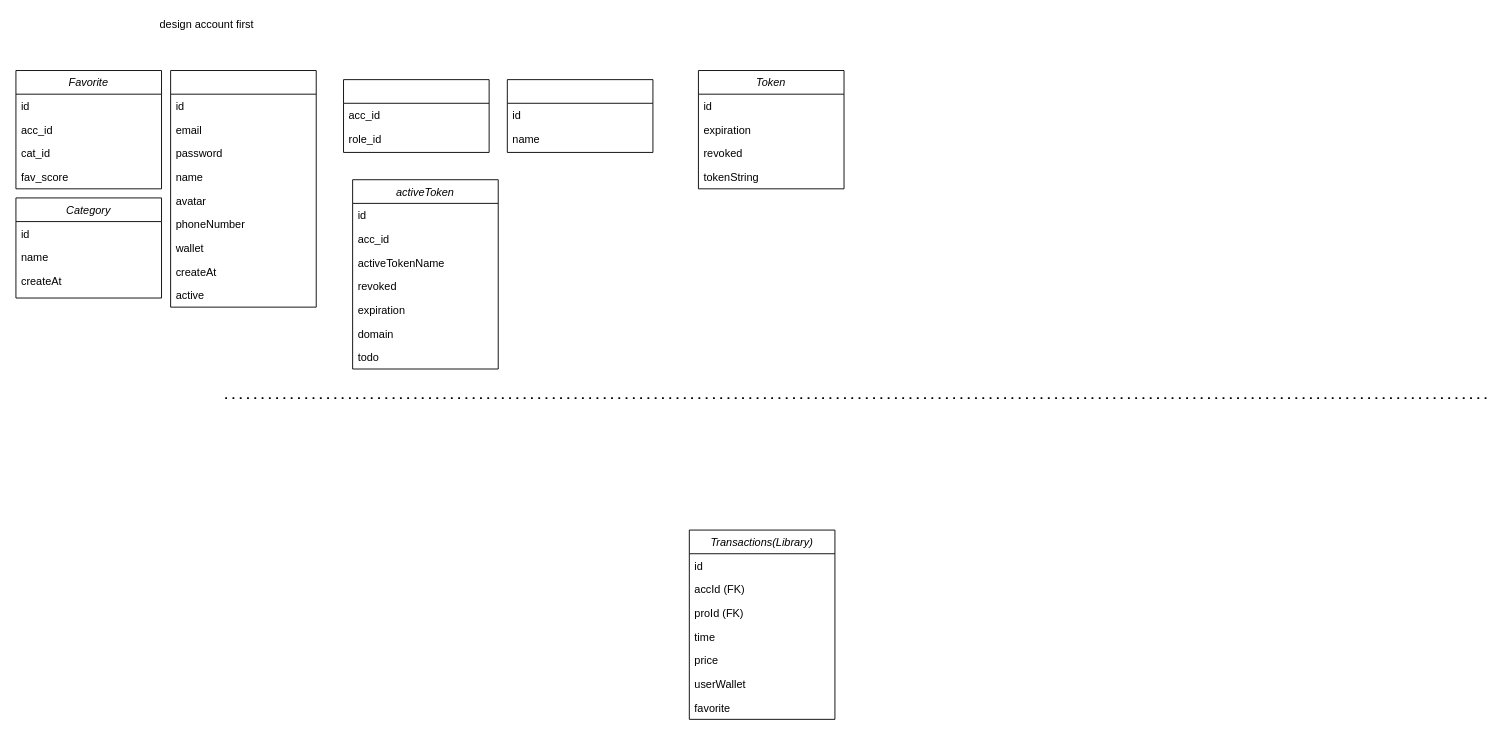
Some shapes in this 1508 by 737 pixel diagram are drawn without their labels. Here are the shapes that lost their labels. From the top down, the box of each, then its label:
(343, 79, 489, 152): acc_role
(506, 79, 653, 152): Role
(170, 70, 316, 307): Account
